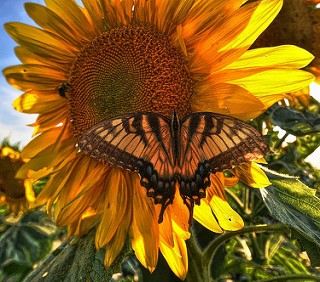flower: (0, 0, 320, 278)
